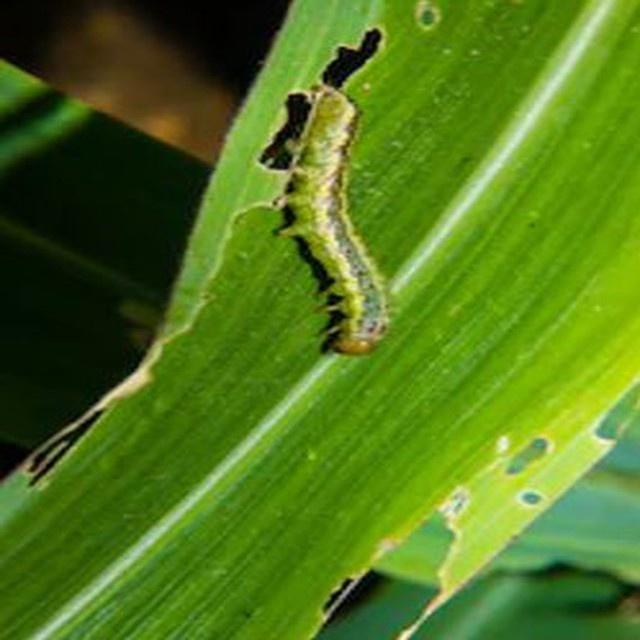gusano_cogollero: (290, 93, 388, 355)
